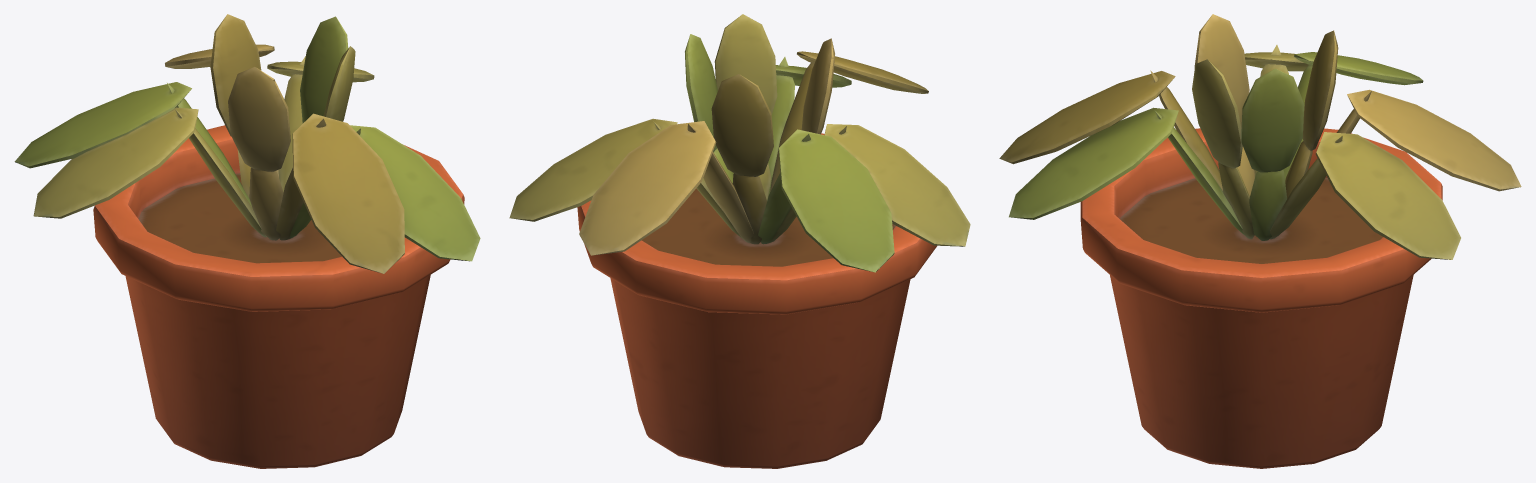
The model's file is Stage_Pool_PlantPot.glb.
3 renders of one model, left to right at view 1: azimuth 30°, elevation 25°; view 2: azimuth 150°, elevation 25°; view 3: azimuth 270°, elevation 25°, orthographic.
Parts seen in each view (by area): view 1: Stage_Pool_PlantPot; view 2: Stage_Pool_PlantPot; view 3: Stage_Pool_PlantPot.
Boxes of the visible parts, <box> form: Stage_Pool_PlantPot: <box>14,14,480,468</box>; Stage_Pool_PlantPot: <box>509,14,970,468</box>; Stage_Pool_PlantPot: <box>999,14,1521,468</box>.
Size of the model in its own units: 2.98 by 2.76 by 3.43.
1 material, 1 textured.
